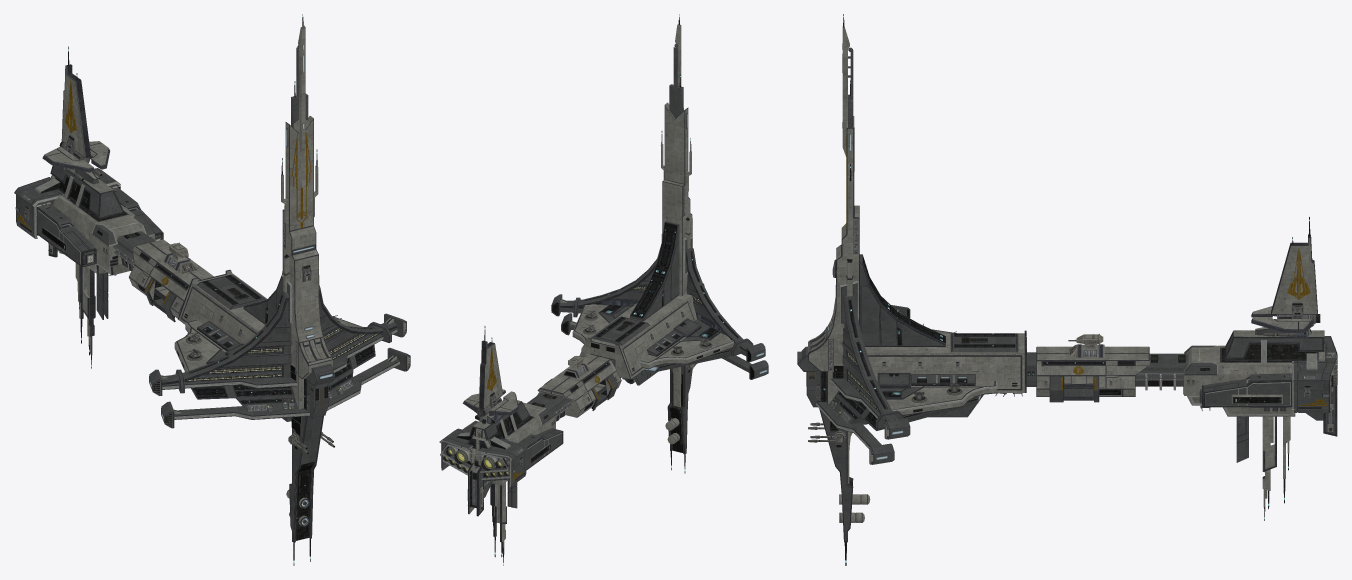
Rendered from battlecruiser.glb.
The picture shows the model from 3 angles, left to right: view 1: azimuth 30°, elevation 25°; view 2: azimuth 150°, elevation 25°; view 3: azimuth 270°, elevation 25°; orthographic projection. The views are drawn at different scales.
Parts seen in each view (by area): view 1: GLTF_created_0; view 2: GLTF_created_0; view 3: GLTF_created_0.
Part boxes in pixels (bbox=[...]): GLTF_created_0: bbox=[14, 14, 410, 565]; GLTF_created_0: bbox=[439, 14, 768, 565]; GLTF_created_0: bbox=[797, 14, 1337, 565].
Size of the model in its own units: 0.7818 by 1.62 by 1.45.
Materials: 6 (6 with a texture image).
